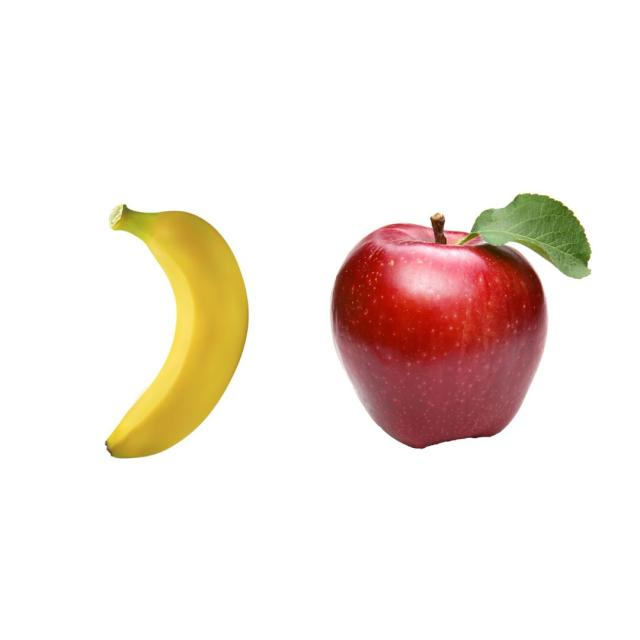Apel: (328, 192, 591, 449)
Pisang: (103, 202, 250, 458)
